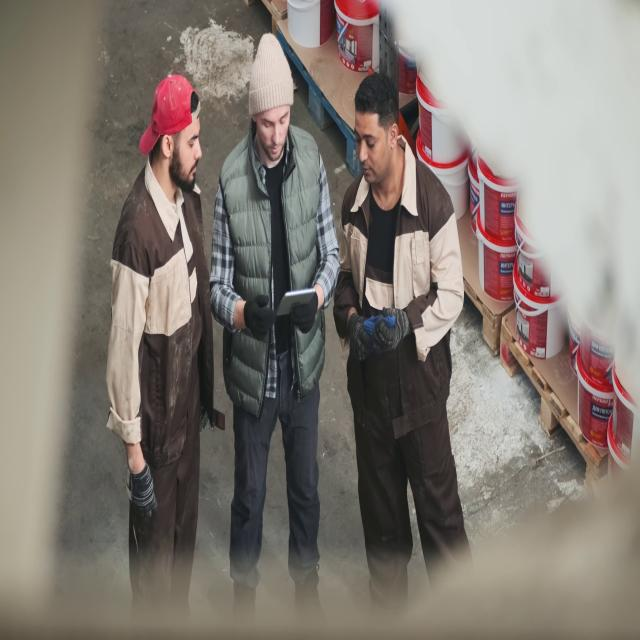gloved: (125, 462, 157, 520), (374, 306, 411, 352), (243, 294, 276, 341), (348, 312, 374, 362), (290, 290, 318, 334)
